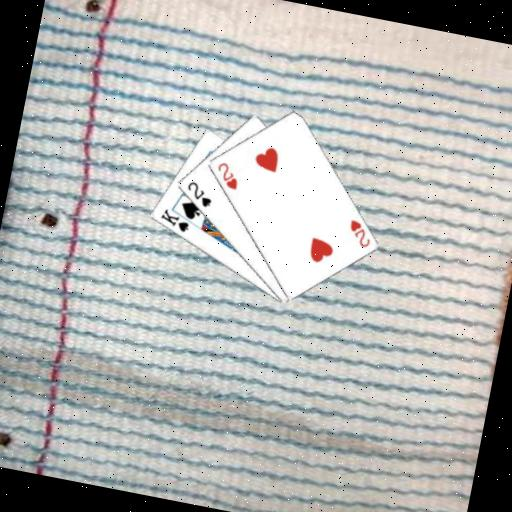2H: (343, 215, 375, 250), (211, 158, 243, 192)
2S: (181, 178, 216, 210)
KS: (155, 205, 193, 235)
